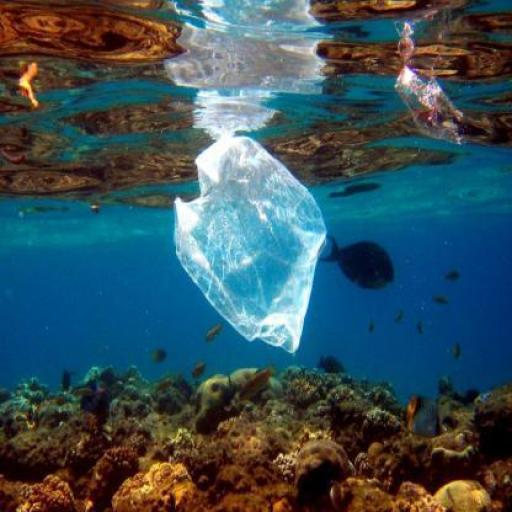plastic bag: (176, 138, 330, 355)
